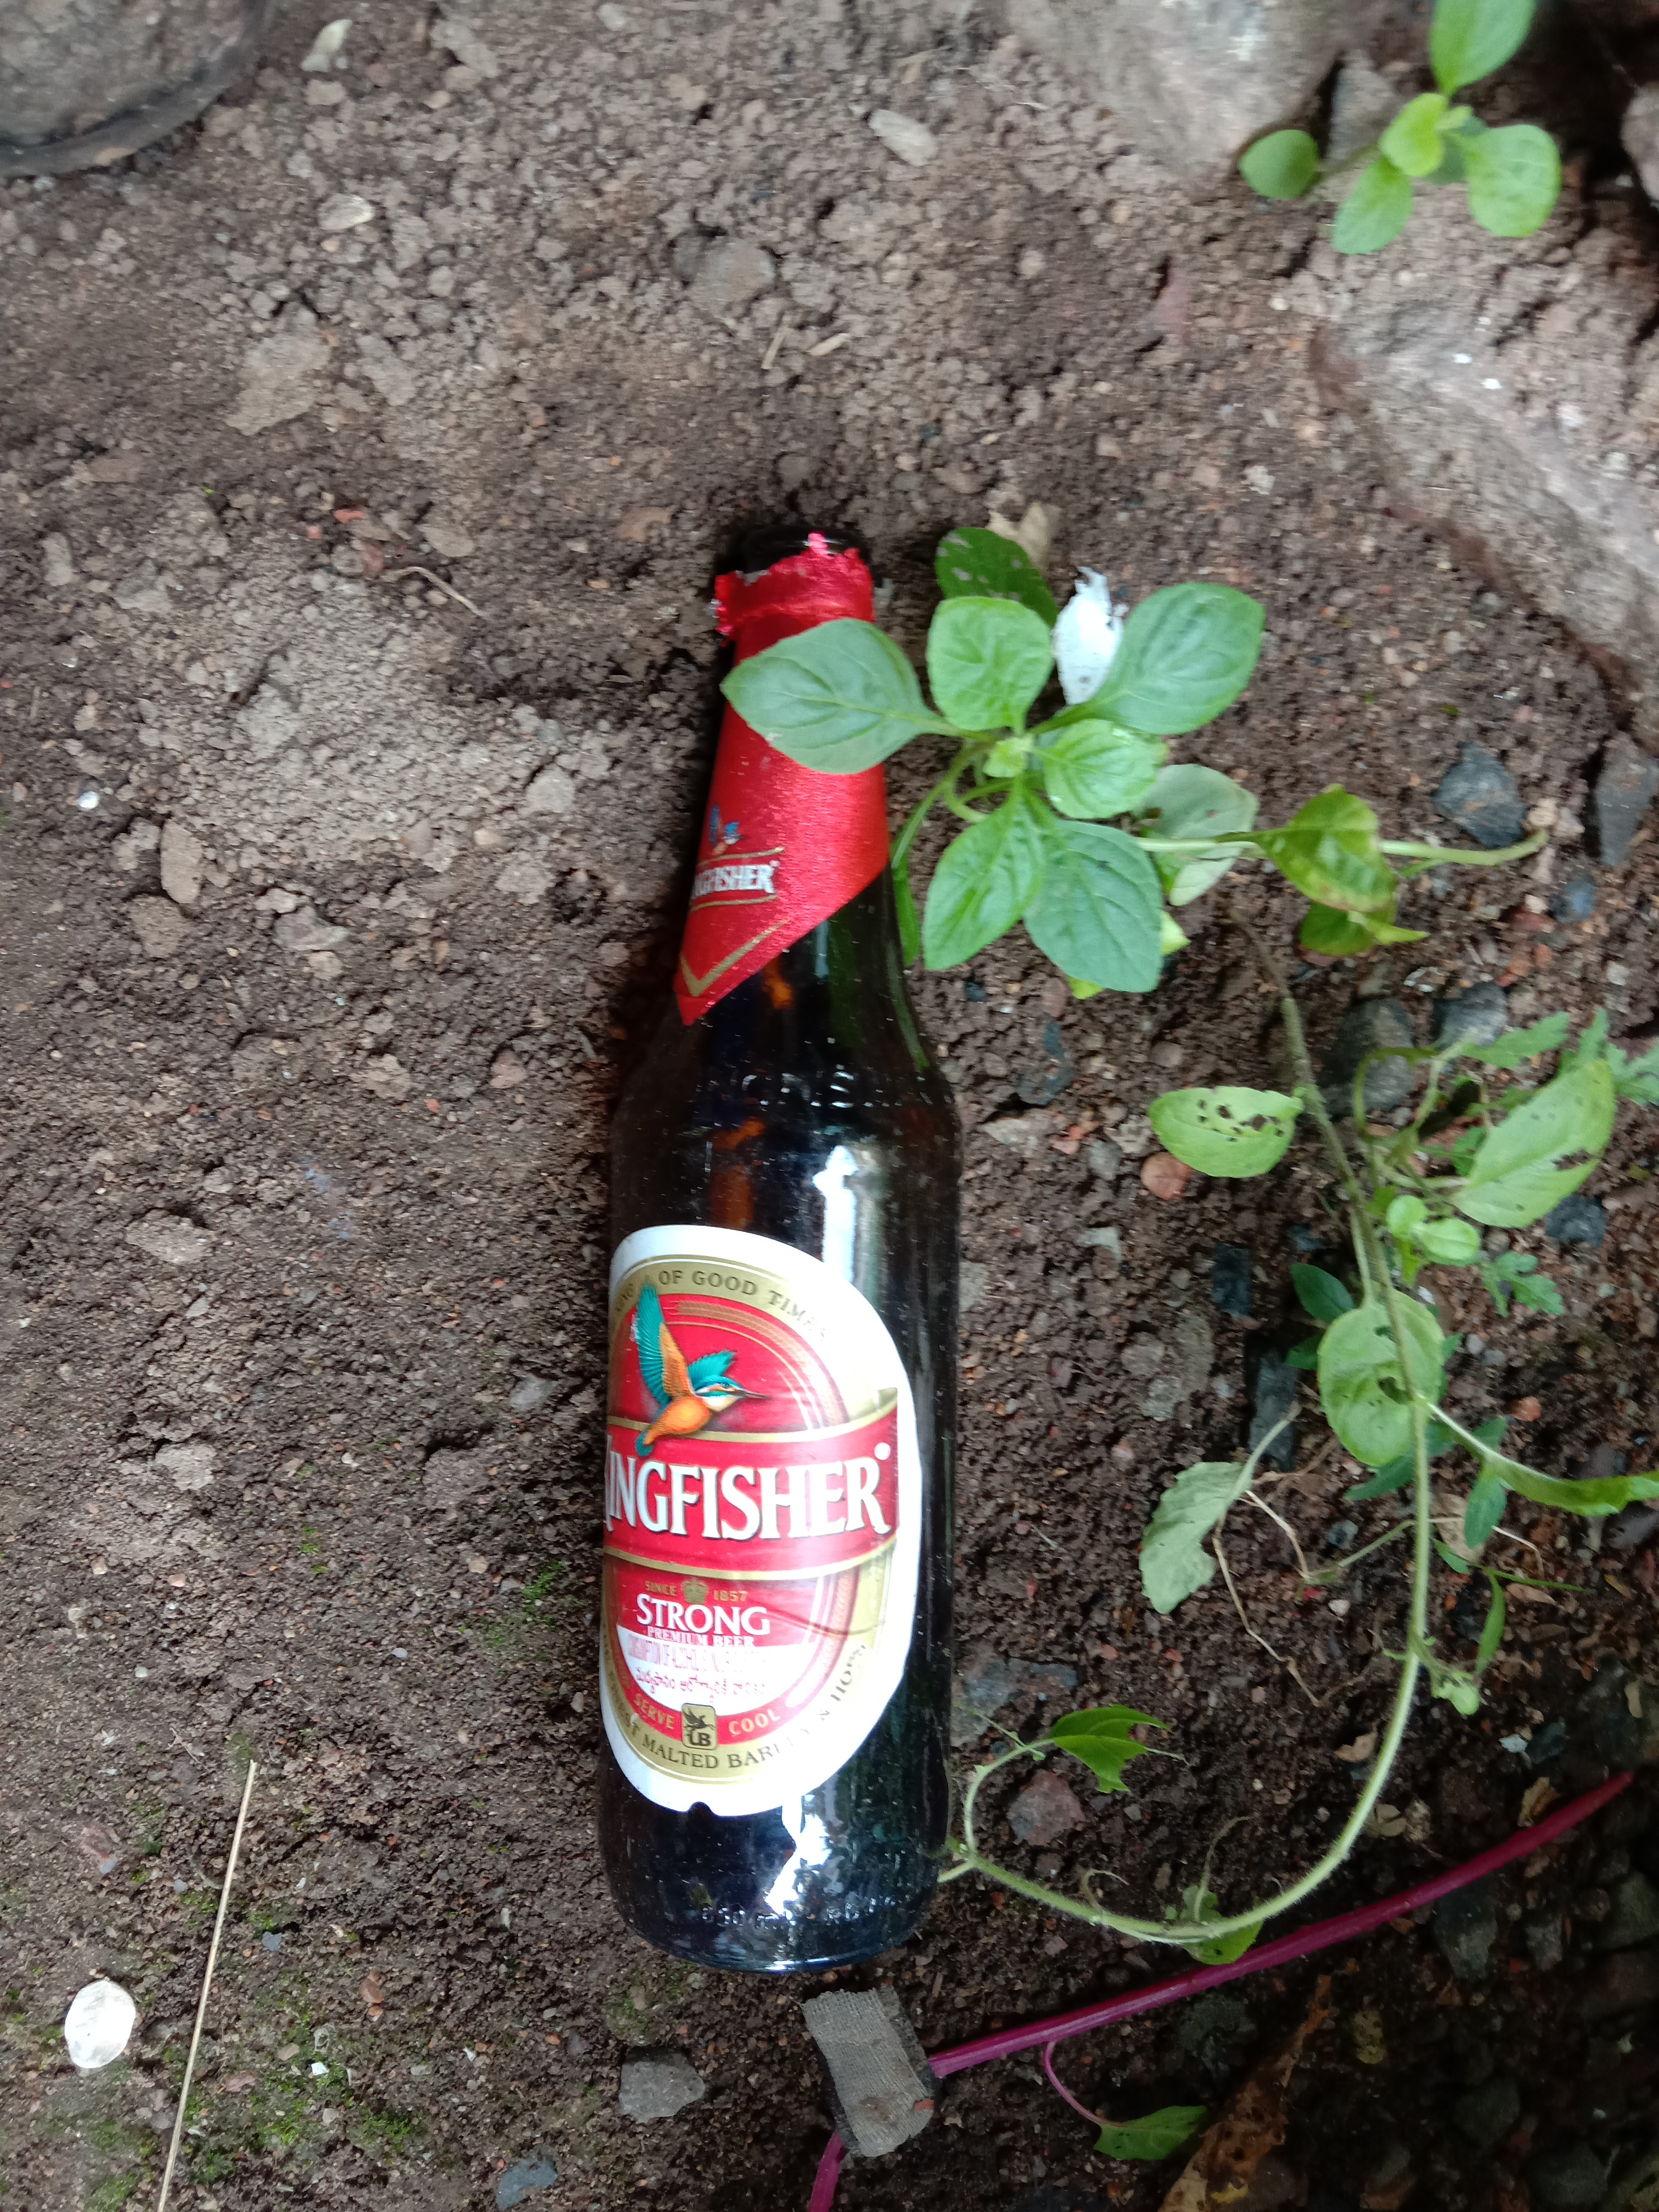glass_bottle: (511, 463, 1030, 2013)
